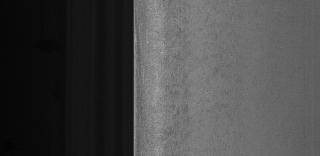silk spot: (164, 17, 194, 148)
